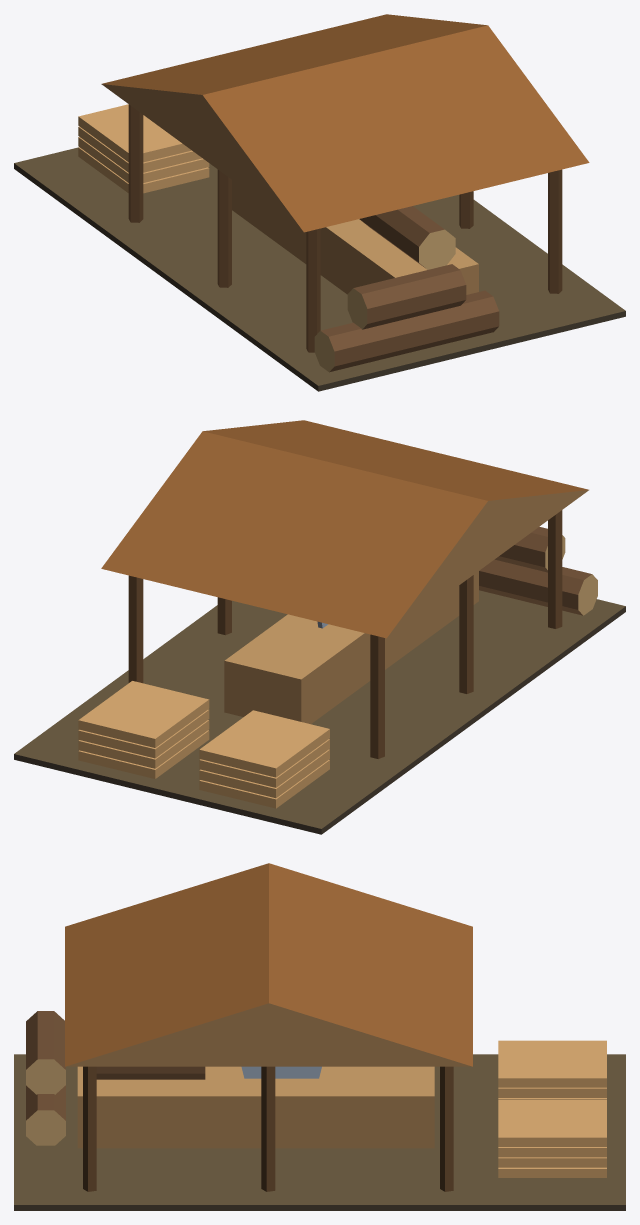
Rendered from sawmill.glb.
The picture shows the model from 3 angles, top to bottom: view 1: azimuth 30°, elevation 25°; view 2: azimuth 150°, elevation 25°; view 3: azimuth 270°, elevation 25°; orthographic projection.
Visible parts, largest first — view 1: sawmill; view 2: sawmill; view 3: sawmill.
Part boxes in pixels (left/top/right/bottom): sawmill: left=14, top=14, right=625, bottom=391; sawmill: left=14, top=420, right=625, bottom=834; sawmill: left=14, top=863, right=625, bottom=1210.
Bounding box in the file's own units: 2.8 × 1.75 × 4.8.
